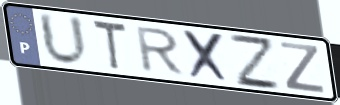R: (135, 25, 188, 77)
T: (90, 17, 129, 73)
U: (36, 10, 91, 69)
X: (180, 28, 233, 86)
Z: (226, 31, 283, 92), (278, 40, 327, 96)
